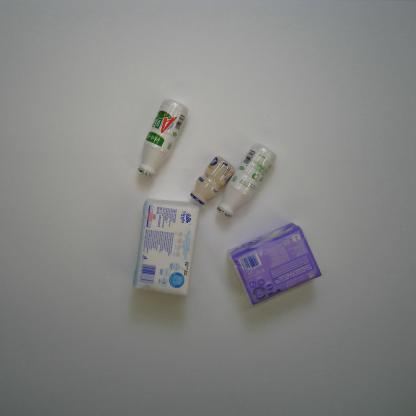Milk: (215, 141, 277, 219), (137, 98, 189, 179), (190, 155, 236, 206)
Tissue: (227, 222, 323, 307), (132, 198, 200, 298)
